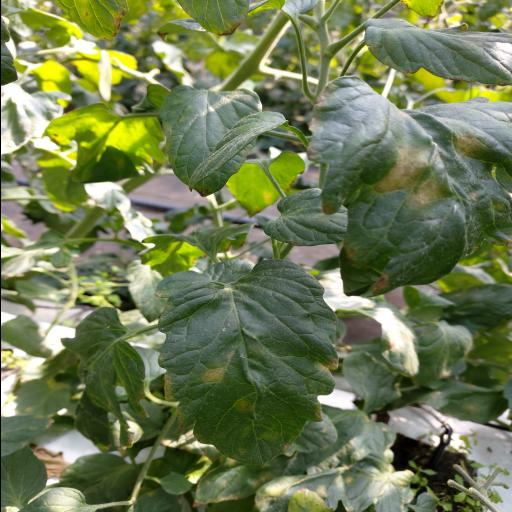Leaf Mold: (306, 74, 512, 296), (152, 261, 342, 467)
